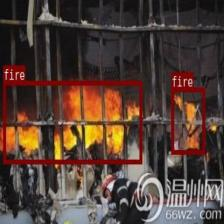fire: (3, 81, 141, 163), (171, 88, 204, 154)
